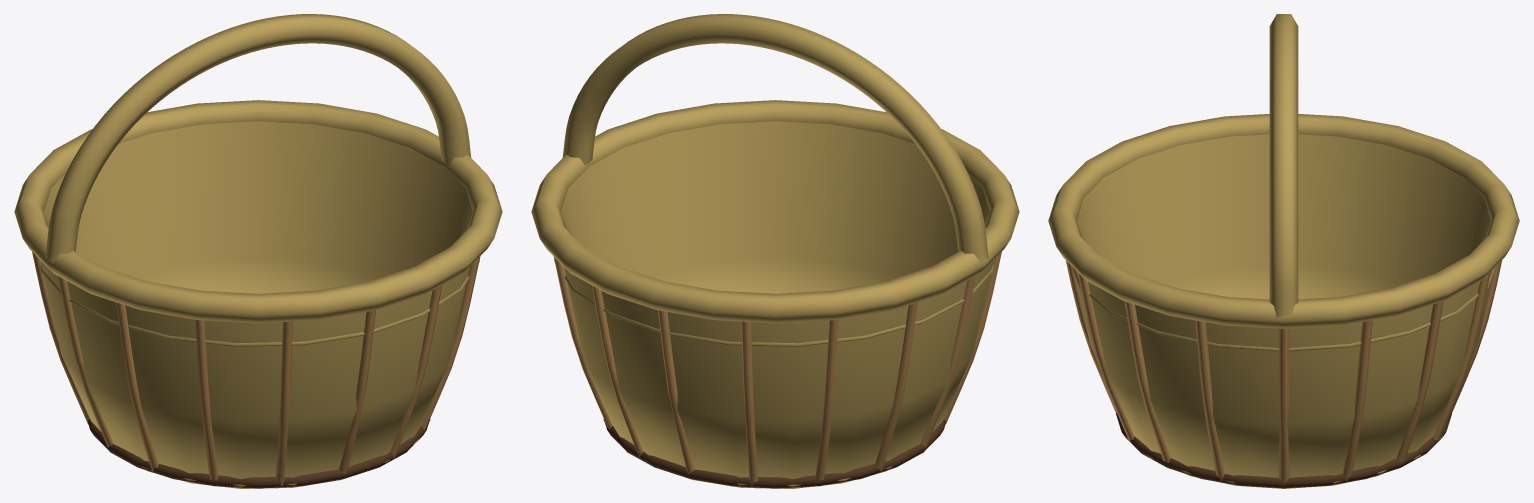
The model's file is LV_GIO_TRE_01.glb.
3 views of the same model, side by side, from view 1: azimuth 30°, elevation 25°; view 2: azimuth 150°, elevation 25°; view 3: azimuth 270°, elevation 25° (orthographic). The views are drawn at different scales.
Visible parts, largest first — view 1: LV_GIO_TRE_01-surface-b59b56, LV_GIO_TRE_01-surface-b68850, LV_GIO_TRE_01-surface-50351f; view 2: LV_GIO_TRE_01-surface-b59b56, LV_GIO_TRE_01-surface-b68850, LV_GIO_TRE_01-surface-50351f; view 3: LV_GIO_TRE_01-surface-b59b56, LV_GIO_TRE_01-surface-b68850, LV_GIO_TRE_01-surface-50351f.
Boxes of the visible parts, <box> form: LV_GIO_TRE_01-surface-b59b56: <box>14,14,502,488</box>; LV_GIO_TRE_01-surface-b68850: <box>32,252,480,485</box>; LV_GIO_TRE_01-surface-50351f: <box>87,418,430,488</box>; LV_GIO_TRE_01-surface-b59b56: <box>531,14,1019,488</box>; LV_GIO_TRE_01-surface-b68850: <box>553,252,1001,485</box>; LV_GIO_TRE_01-surface-50351f: <box>603,418,946,488</box>; LV_GIO_TRE_01-surface-b59b56: <box>1048,14,1519,488</box>; LV_GIO_TRE_01-surface-b68850: <box>1065,260,1502,483</box>; LV_GIO_TRE_01-surface-50351f: <box>1116,413,1451,488</box>.
Size of the model in its own units: 0.788 by 0.7053 by 0.788.
